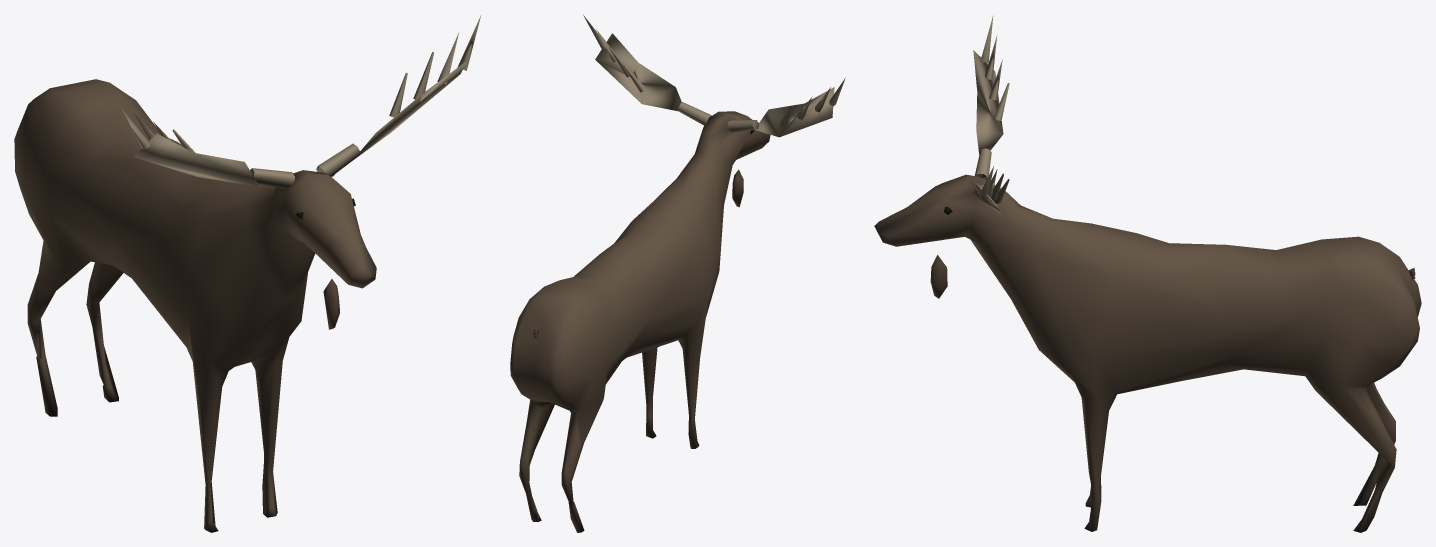
The model's file is elch.glb.
3 views of the same model, side by side, from view 1: azimuth 30°, elevation 25°; view 2: azimuth 150°, elevation 25°; view 3: azimuth 270°, elevation 25° (orthographic). The views are drawn at different scales.
Parts seen in each view (by area): view 1: lack; view 2: lack; view 3: lack.
Boxes of the visible parts, left/top/right/bottom form: lack: left=14, top=15, right=481, bottom=532; lack: left=510, top=15, right=845, bottom=532; lack: left=874, top=15, right=1421, bottom=532.
Bounding box in the file's own units: 2.36 × 3.14 × 3.62.
